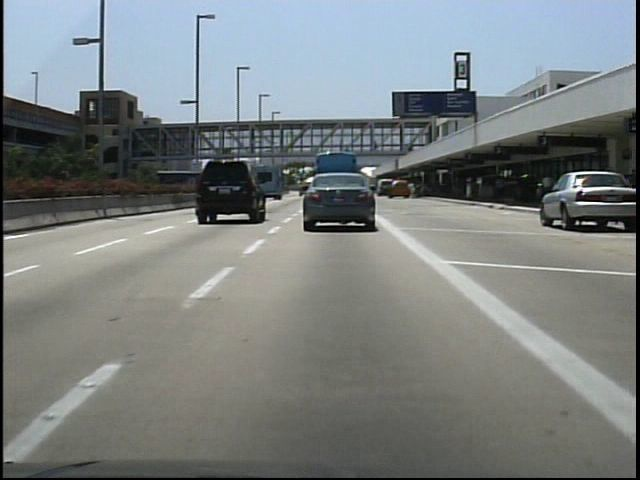person: (538, 169, 556, 210), (491, 174, 509, 207), (405, 178, 420, 205), (369, 137, 383, 158), (335, 136, 348, 156)
